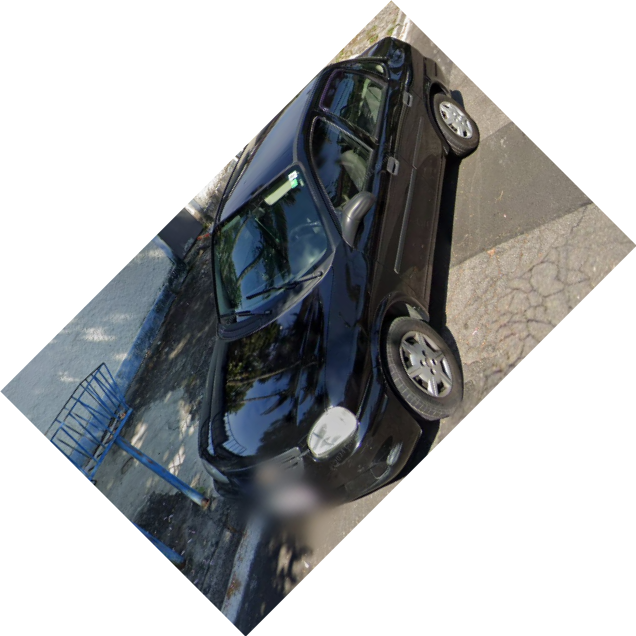car: (196, 37, 480, 529)
